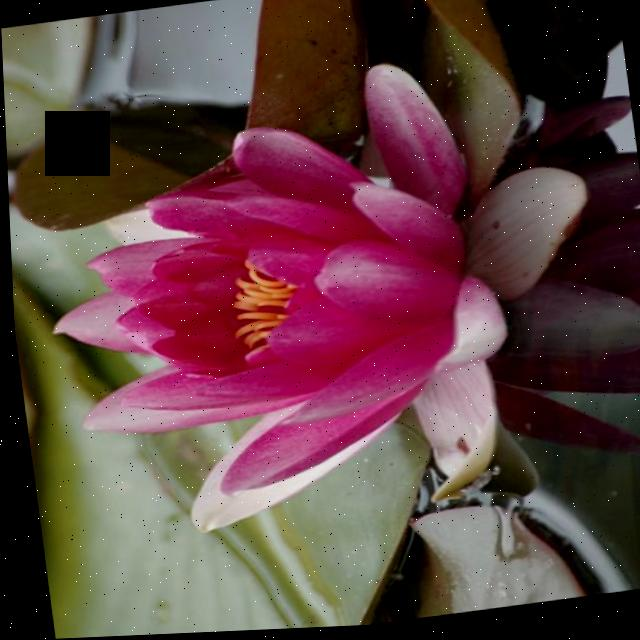rose: (1, 14, 640, 640)
